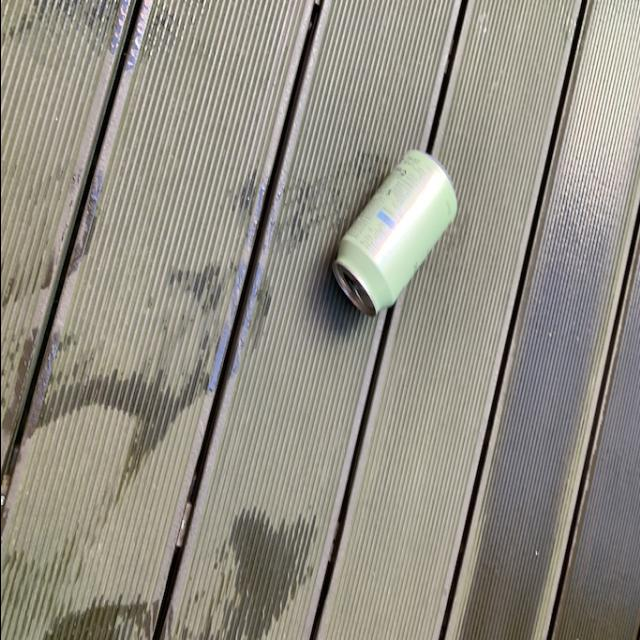Aluminum Can: (328, 146, 458, 322)
